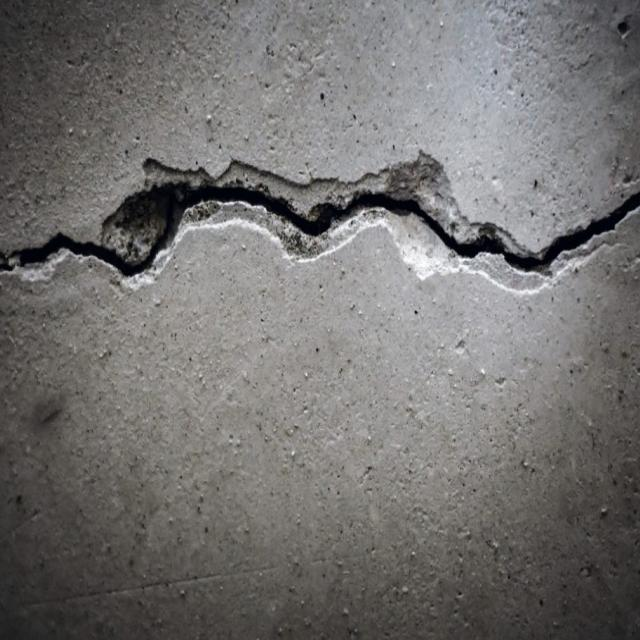horizontal crack: (0, 144, 640, 299)
